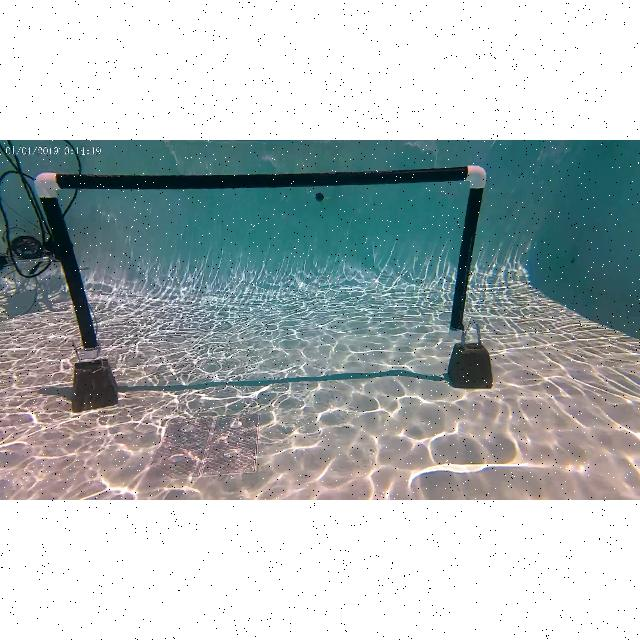prequal gate: (35, 164, 488, 354)
prequal gate leg l: (34, 166, 110, 352)
prequal gate leg r: (448, 166, 488, 337)
